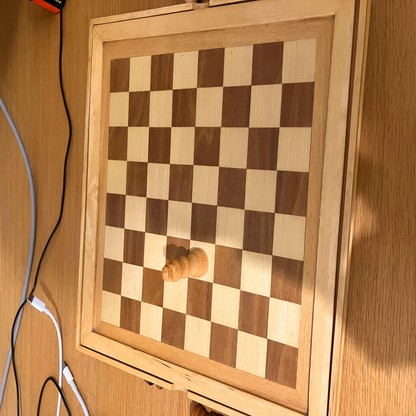king_white: (163, 248, 207, 283)
